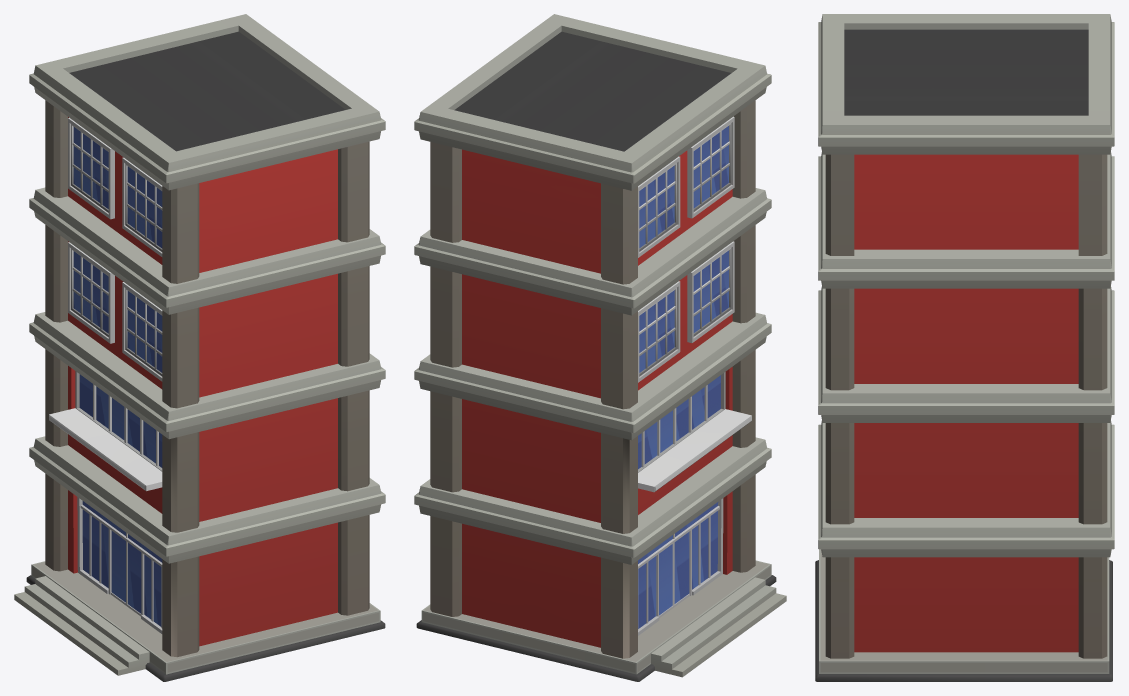
File: Building_9_1_BB.fbx
3 views of the same model, side by side, from view 1: azimuth 30°, elevation 25°; view 2: azimuth 150°, elevation 25°; view 3: azimuth 270°, elevation 25° (orthographic). The views are drawn at different scales.
Parts seen in each view (by area): view 1: Building_9_1_BB; view 2: Building_9_1_BB; view 3: Building_9_1_BB.
Part boxes in pixels (x1=…): Building_9_1_BB: x1=14, y1=14, x2=385, y2=681; Building_9_1_BB: x1=414, y1=14, x2=786, y2=681; Building_9_1_BB: x1=815, y1=14, x2=1114, y2=681.
Size of the model in its own units: 947 by 1855 by 906.
